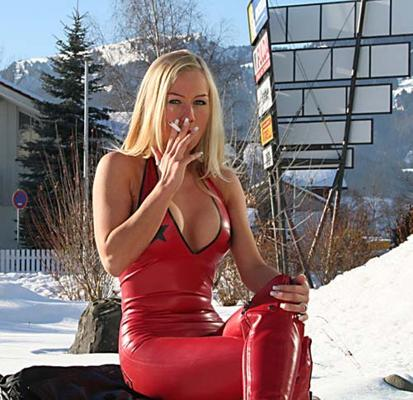person: (93, 51, 315, 398)
